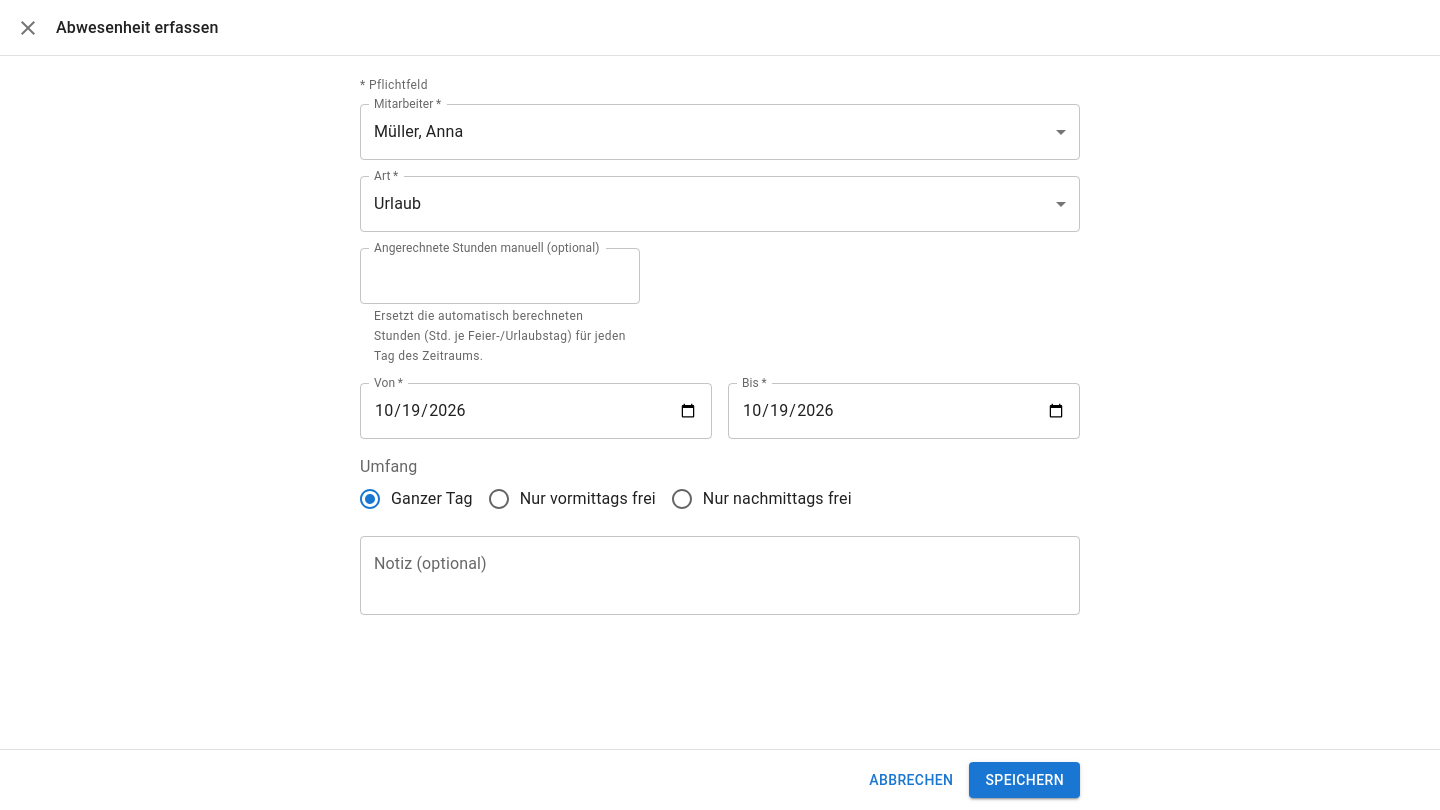
Test: AbsenceDialog › requires both dates
Step 1. Clear the date field labelled "Von *" → [536, 411], box [360,383,712,439]
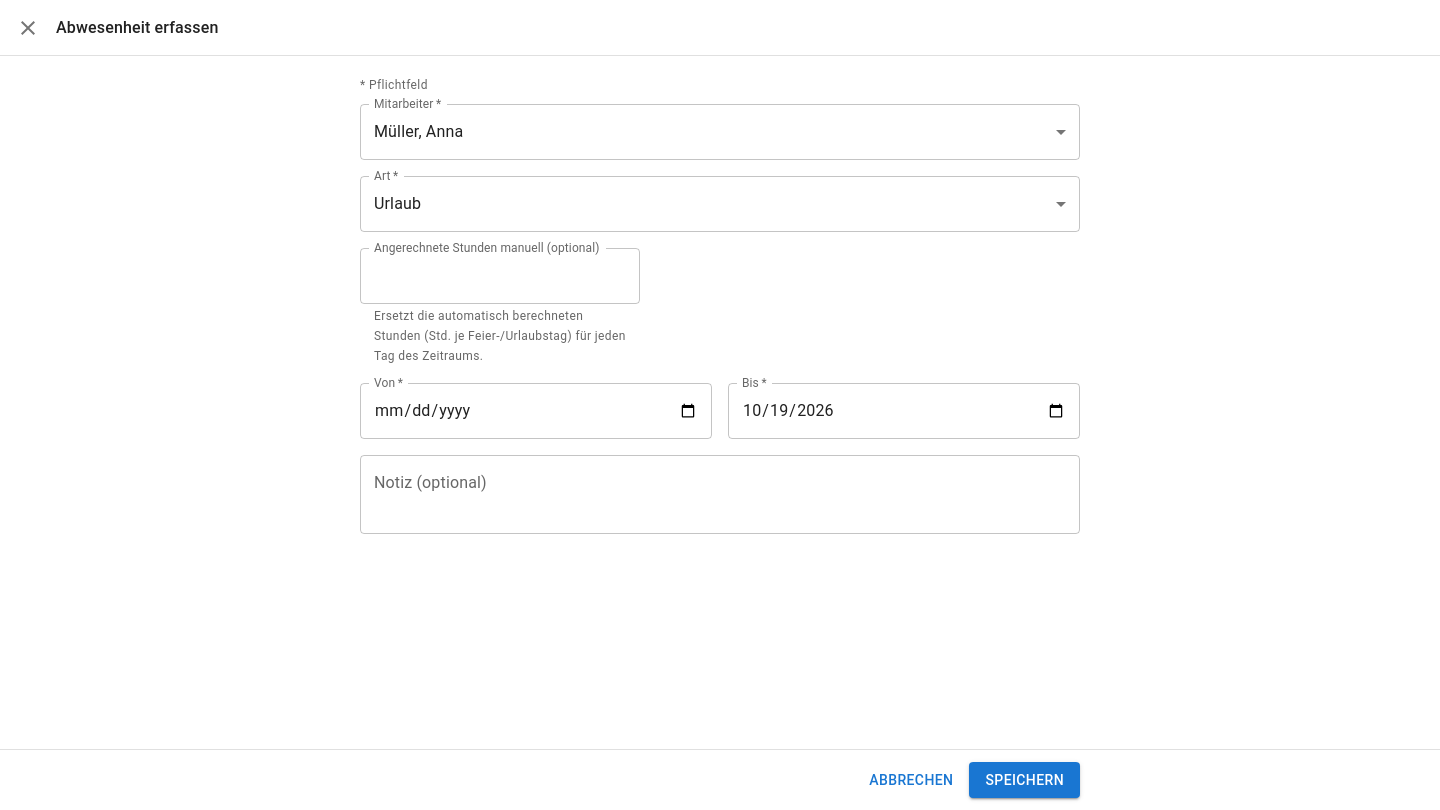
Step 2. Click the button "Speichern" → [1025, 780], box [969,762,1080,798]
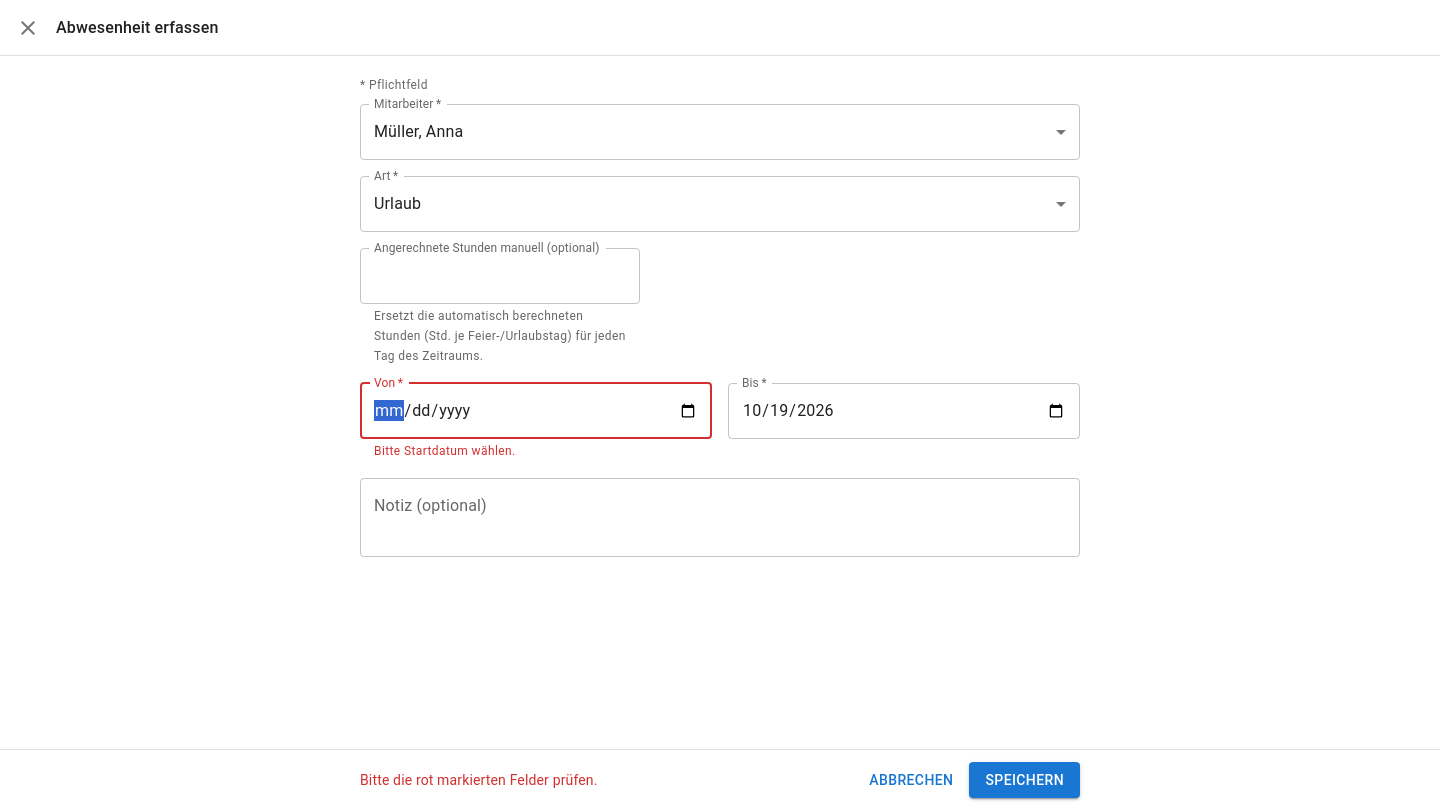
Expected: the text "Bitte Startdatum wählen." is shown, [374,444,516,458]
